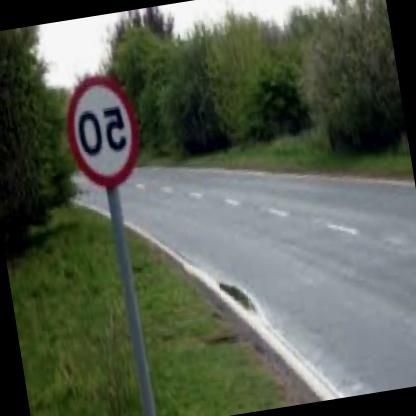speedlimit: (62, 62, 148, 190)
